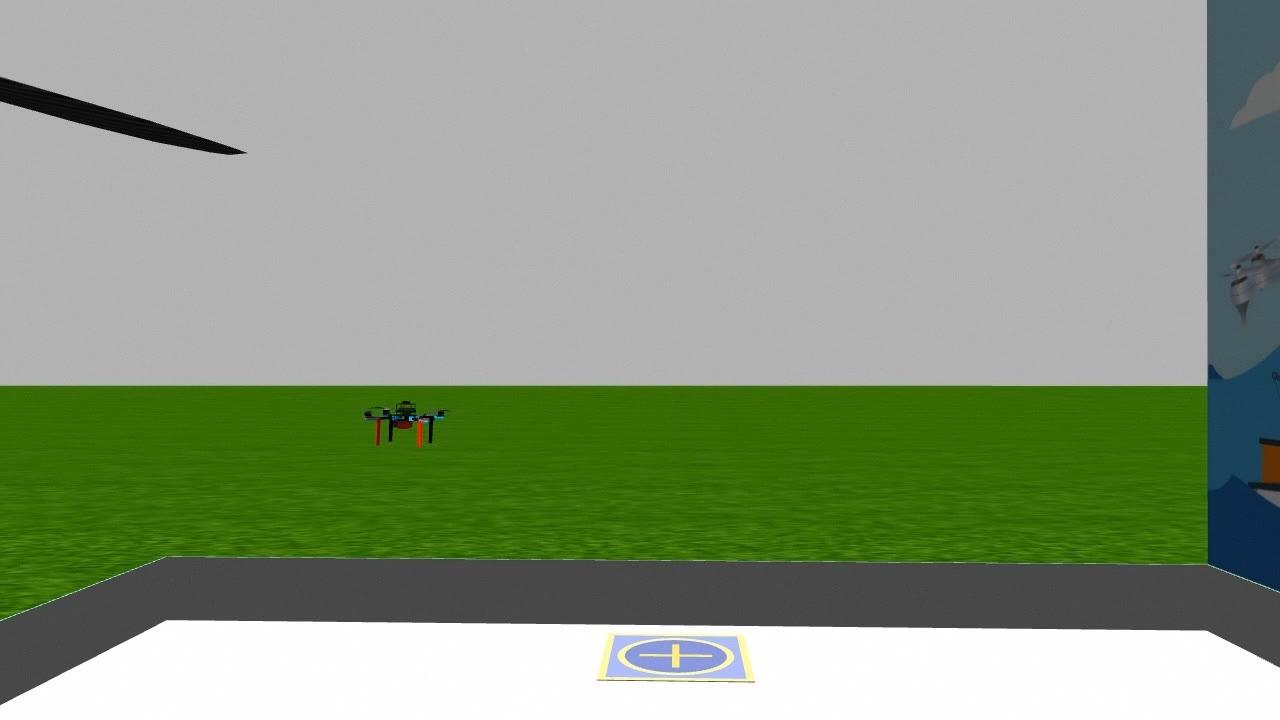UAV: (357, 381, 452, 462)
